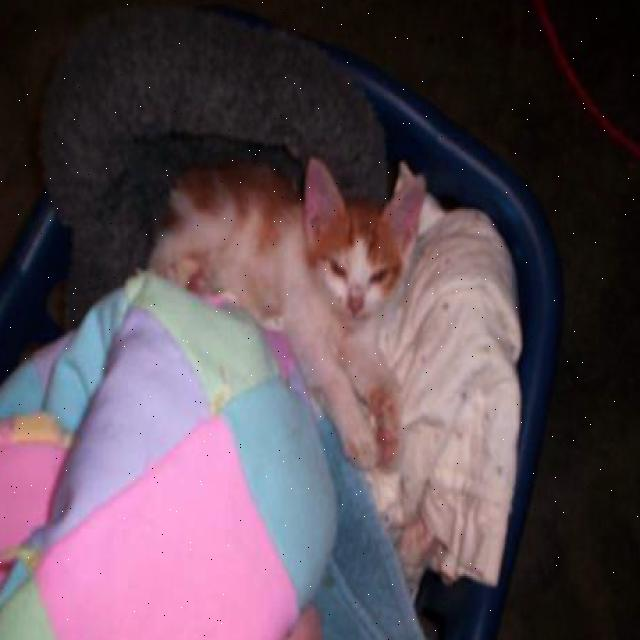Cat: (295, 159, 426, 341)
